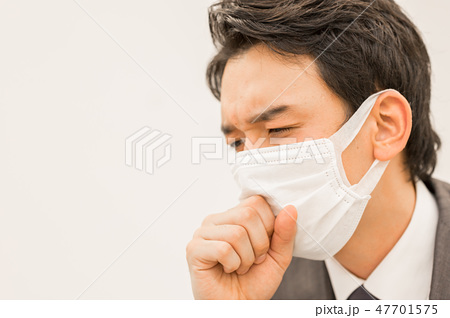mask: (234, 149, 364, 254)
